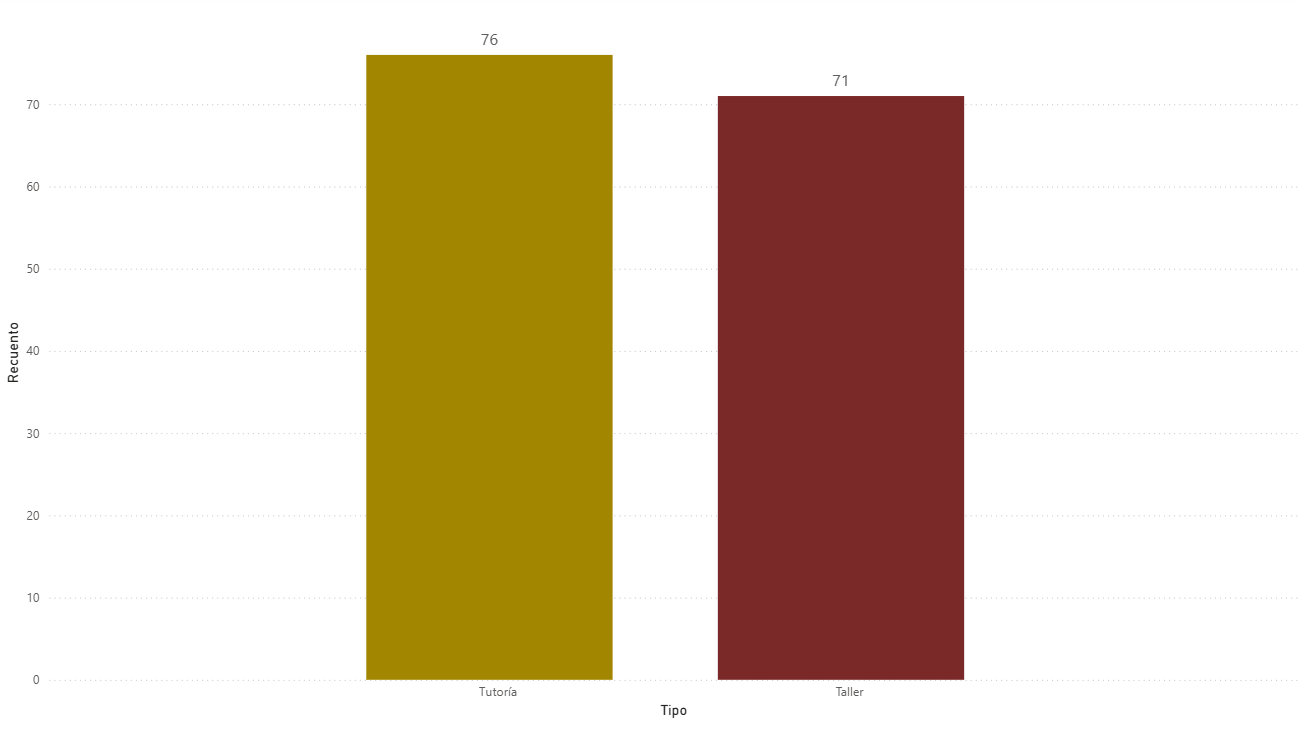

The dashboard page shown, as its layout file describes it:
{"tool":"powerbi","page":{"name":"Tipo","canvas":[1280,720],"ordinal":0},"visuals":[{"type":"clusteredColumnChart","title":"Recuento de Tipo","fields":{"Category":["Meetings - Jun -Aug (Clean).Tipo"],"Y":["CountNonNull(Meetings - Jun -Aug (Clean).Tipo)"]},"box":[0,13.8,1280,700],"z":0}]}

Visuals, with their boxes in screenshot pixels (x1, y1, x2, y2), scaled from the page's 1280x720 canvas onto the 1300x730 screenshot:
"Recuento de Tipo" clusteredColumnChart: {"left": 0, "top": 14, "right": 1299, "bottom": 724}
